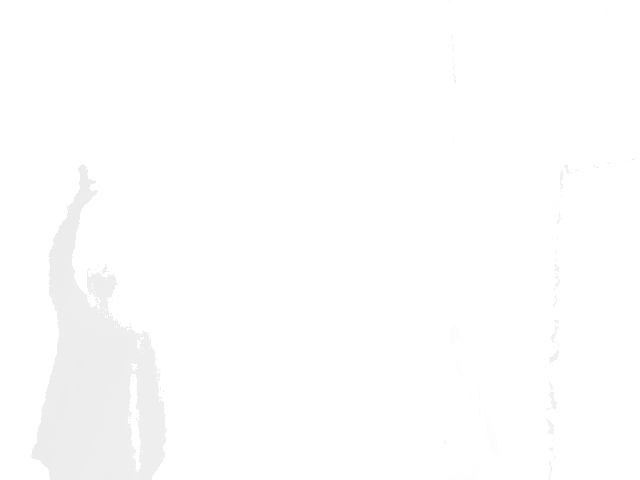hand: (75, 163, 98, 207)
head: (84, 260, 117, 314)
person: (31, 163, 167, 480)
